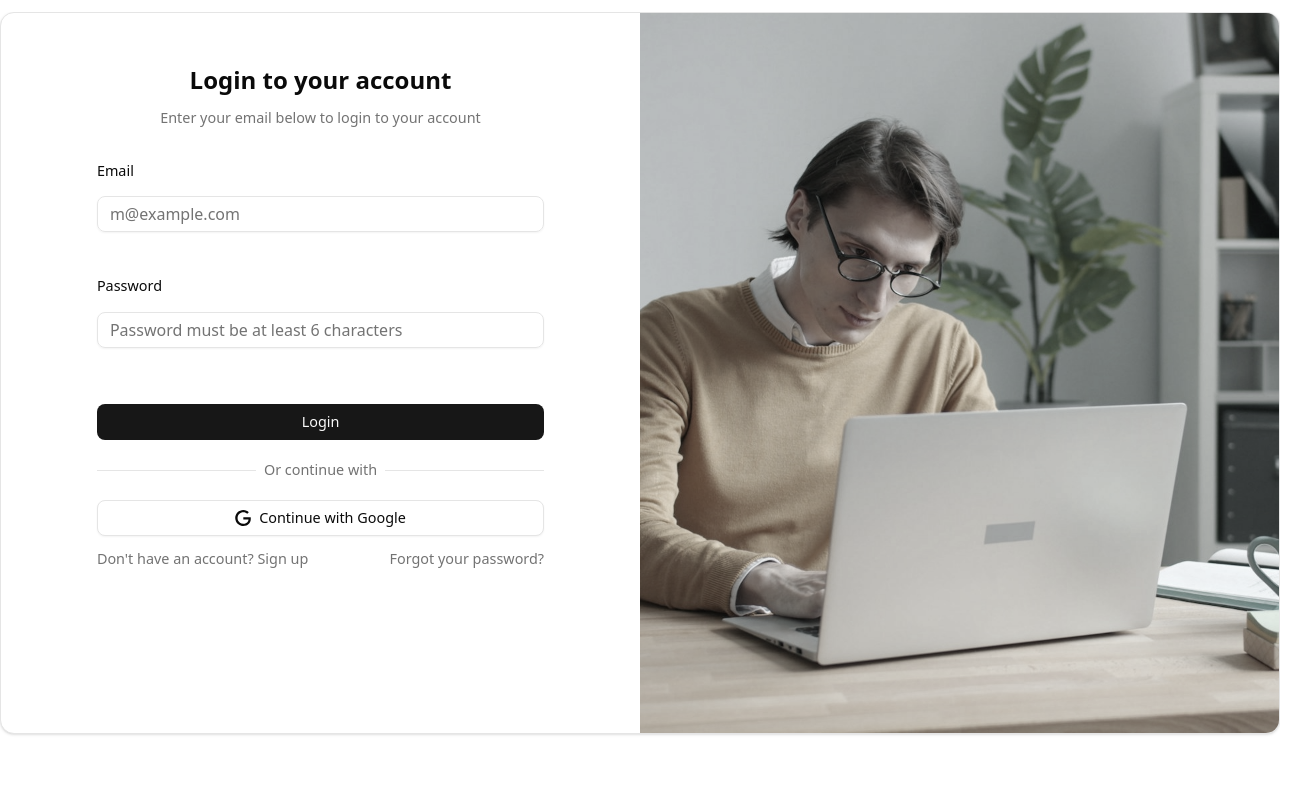
Test case: LoginForm › when empty submit › email is required
The image size is (1292, 812).
Click the button "Login".
click(320, 422)  # box top-left (97, 404), bottom-right (544, 440)
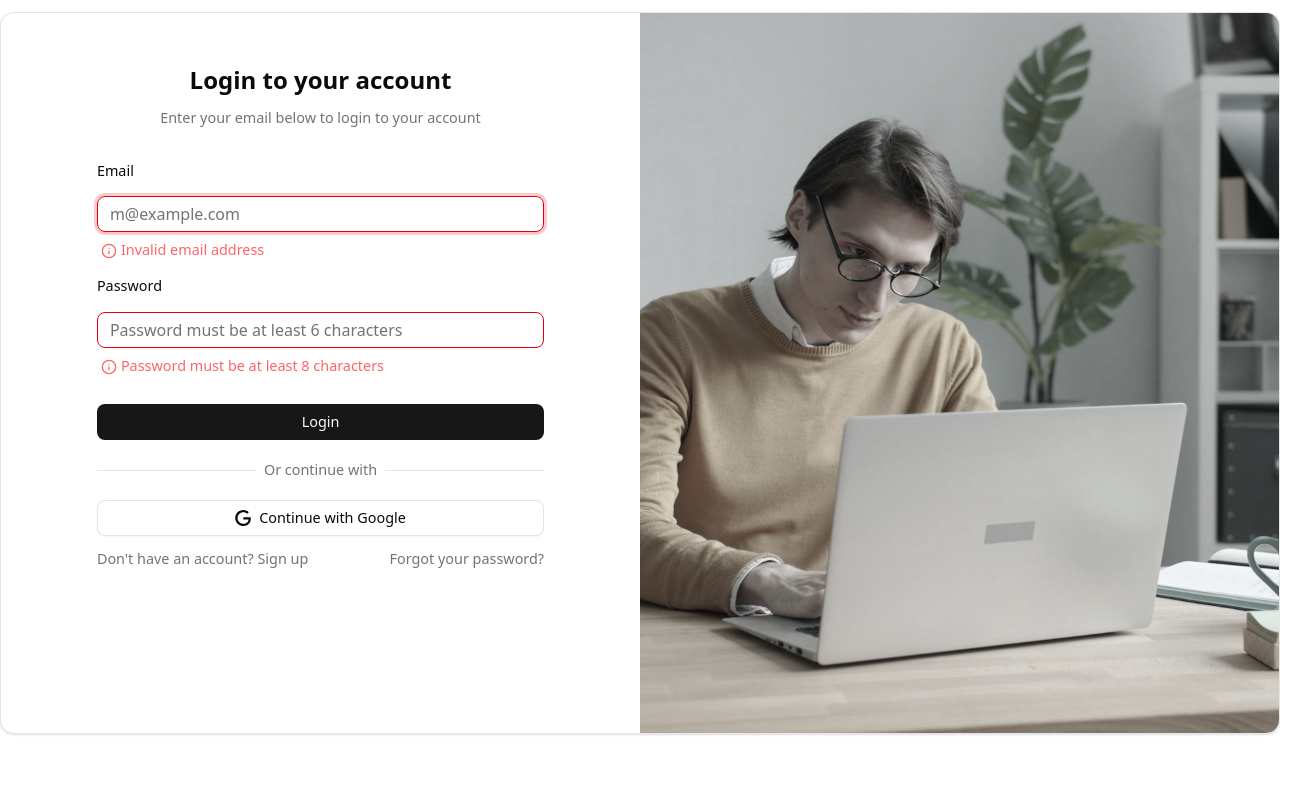
Check: the text "Invalid email address" is shown, box top-left (97, 240), bottom-right (264, 261)
Check: the text "Password must be at least 8 characters" is shown, box top-left (97, 356), bottom-right (384, 377)
